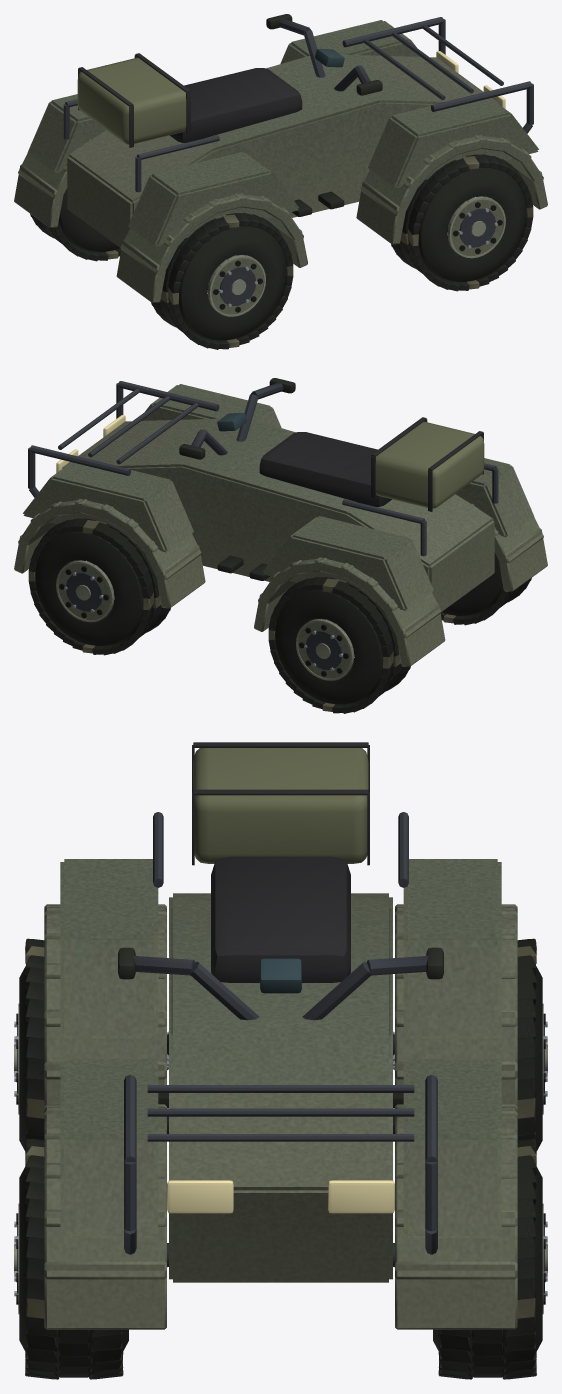
The model's file is quad.glb.
The picture shows the model from 3 angles, top to bottom: view 1: azimuth 30°, elevation 25°; view 2: azimuth 150°, elevation 25°; view 3: azimuth 270°, elevation 25°; orthographic projection. The views are drawn at different scales.
Visible parts, largest first — view 1: body, wheel_1, wheel_0, wheel_2; view 2: body, wheel_3, wheel_2, wheel_0; view 3: body, wheel_1, wheel_3, wheel_0, wheel_2.
Part boxes in pixels (box(x1,y1,x2,y2)): body: box(14, 14, 547, 302); wheel_1: box(391, 154, 533, 291); wheel_0: box(151, 213, 293, 349); wheel_2: box(30, 188, 121, 261); body: box(14, 378, 547, 666); wheel_3: box(28, 518, 170, 655); wheel_2: box(268, 577, 410, 713); wheel_0: box(440, 552, 531, 625); body: box(44, 742, 517, 1329); wheel_1: box(14, 1138, 128, 1379); wheel_3: box(433, 1138, 547, 1379); wheel_0: box(14, 938, 44, 1165); wheel_2: box(517, 938, 547, 1165).
Bounding box in the file's own units: 2.29 × 1.19 × 1.52.
Materials: 2 (2 with a texture image).
